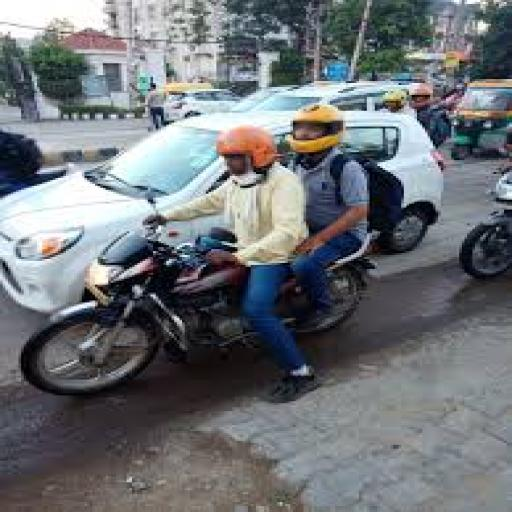helmet: (142, 123, 322, 401), (211, 123, 280, 170)
